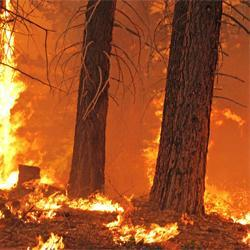fire: (1, 58, 19, 187), (41, 190, 116, 209), (128, 226, 180, 241)
